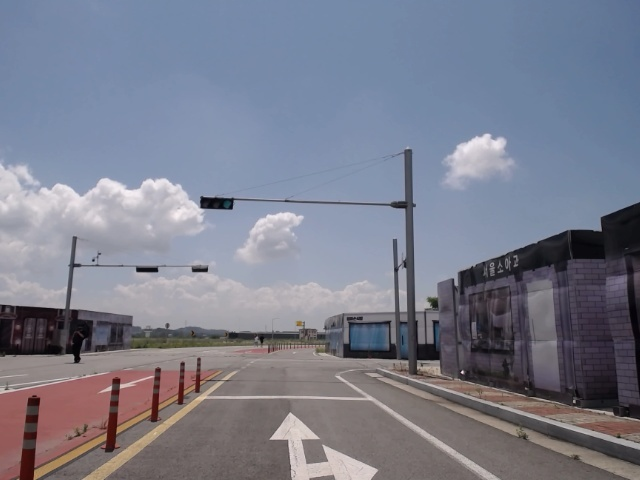green_3: (201, 197, 232, 209)
